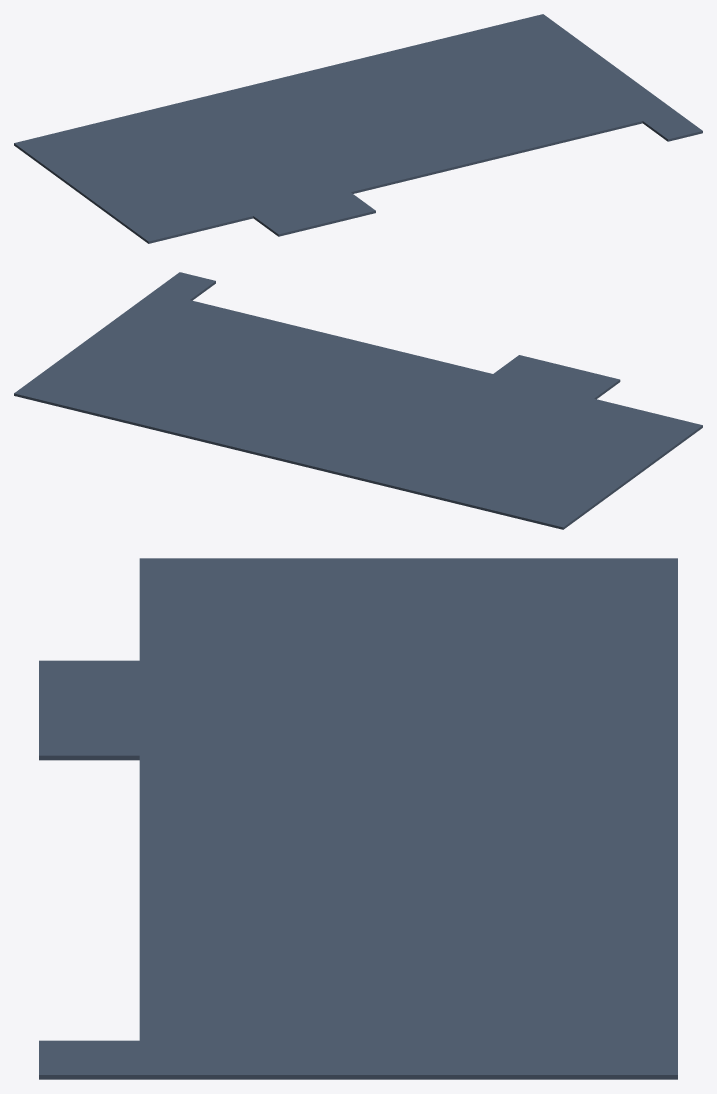
The model's file is floor_geometry.obj.
The picture shows the model from 3 angles, top to bottom: view 1: azimuth 30°, elevation 25°; view 2: azimuth 150°, elevation 25°; view 3: azimuth 270°, elevation 25°; orthographic projection. The views are drawn at different scales.
Visible parts, largest first — view 1: Floor_001_t_energy_generatornyy_zal_floor, Floor_005_t_energy_ohlazhdenie_floor, Floor_003_t_energy_schitovaya_floor, Floor_010_t_energy_sluzhebnyy_podhod_floor, Floor_002_t_energy_pozharnyy_tambur_floor; view 2: Floor_001_t_energy_generatornyy_zal_floor, Floor_005_t_energy_ohlazhdenie_floor, Floor_003_t_energy_schitovaya_floor, Floor_010_t_energy_sluzhebnyy_podhod_floor, Floor_002_t_energy_pozharnyy_tambur_floor; view 3: Floor_001_t_energy_generatornyy_zal_floor, Floor_005_t_energy_ohlazhdenie_floor, Floor_003_t_energy_schitovaya_floor, Floor_010_t_energy_sluzhebnyy_podhod_floor, Floor_002_t_energy_pozharnyy_tambur_floor, Floor_008_t_energy_sluzhebnyy_podhod_floor.
Boxes of the visible parts, x1,y1,x2,y2 form: Floor_001_t_energy_generatornyy_zal_floor: (14,68,455,243); Floor_005_t_energy_ohlazhdenie_floor: (378,64,640,168); Floor_003_t_energy_schitovaya_floor: (321,23,562,109); Floor_010_t_energy_sluzhebnyy_podhod_floor: (510,14,702,141); Floor_002_t_energy_pozharnyy_tambur_floor: (253,192,375,236); Floor_001_t_energy_generatornyy_zal_floor: (244,347,702,529); Floor_005_t_energy_ohlazhdenie_floor: (111,300,383,406); Floor_003_t_energy_schitovaya_floor: (52,359,303,451); Floor_010_t_energy_sluzhebnyy_podhod_floor: (14,272,213,404); Floor_002_t_energy_pozharnyy_tambur_floor: (493,355,620,399); Floor_001_t_energy_generatornyy_zal_floor: (139,558,677,857); Floor_005_t_energy_ohlazhdenie_floor: (139,858,450,1038); Floor_003_t_energy_schitovaya_floor: (450,858,677,1038); Floor_010_t_energy_sluzhebnyy_podhod_floor: (39,1042,677,1079); Floor_002_t_energy_pozharnyy_tambur_floor: (39,660,139,760); Floor_008_t_energy_sluzhebnyy_podhod_floor: (139,1040,450,1042).
Bounding box in the file's own units: 46.85 × 0.2 × 24.49.
